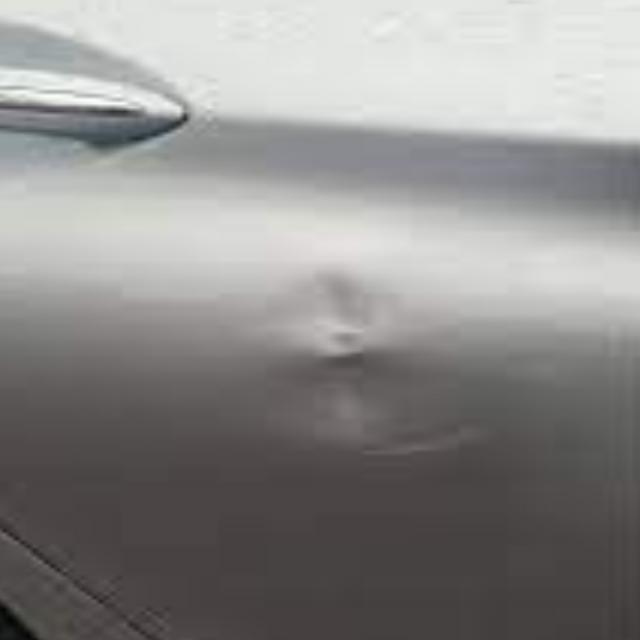dents: (230, 250, 513, 478)
